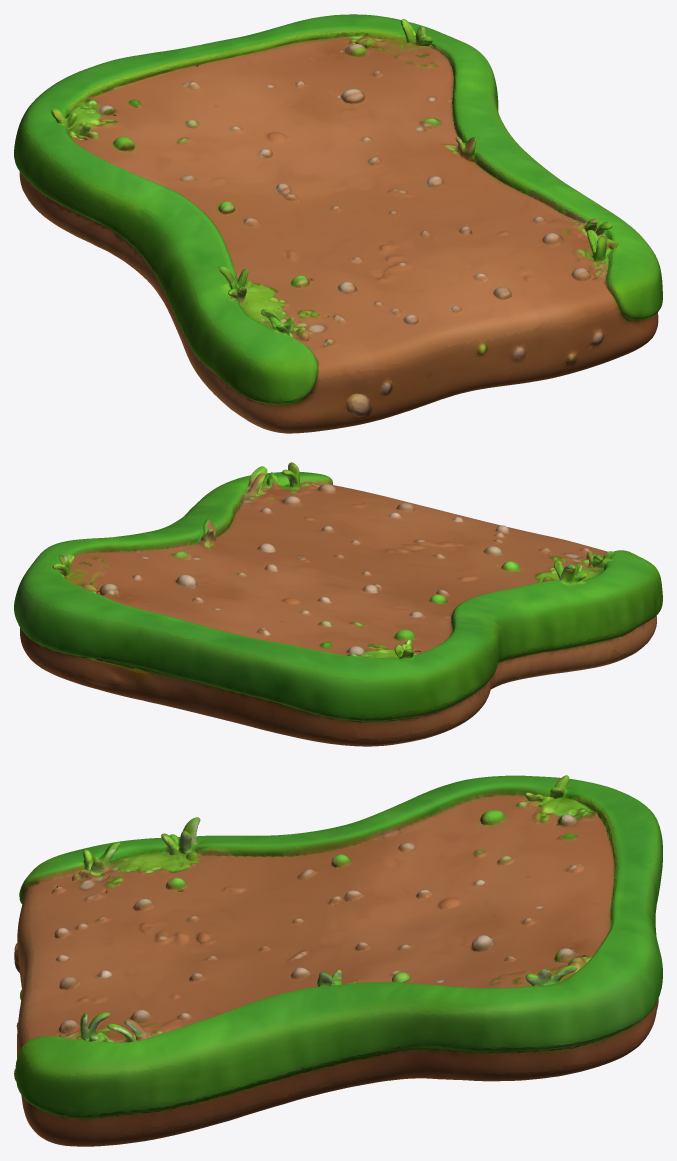
Rendered from ter_dirt_path.glb.
The picture shows the model from 3 angles, top to bottom: view 1: azimuth 30°, elevation 25°; view 2: azimuth 150°, elevation 25°; view 3: azimuth 270°, elevation 25°; orthographic projection. The views are drawn at different scales.
Visible parts, largest first — view 1: geometry_0; view 2: geometry_0; view 3: geometry_0.
Boxes of the visible parts, left/top/right/bottom form: geometry_0: left=14, top=14, right=662, bottom=433; geometry_0: left=14, top=462, right=662, bottom=746; geometry_0: left=14, top=775, right=662, bottom=1146.
Size of the model in its own units: 0.3 by 0.1062 by 0.3391.
Materials: 1 (1 with a texture image).
